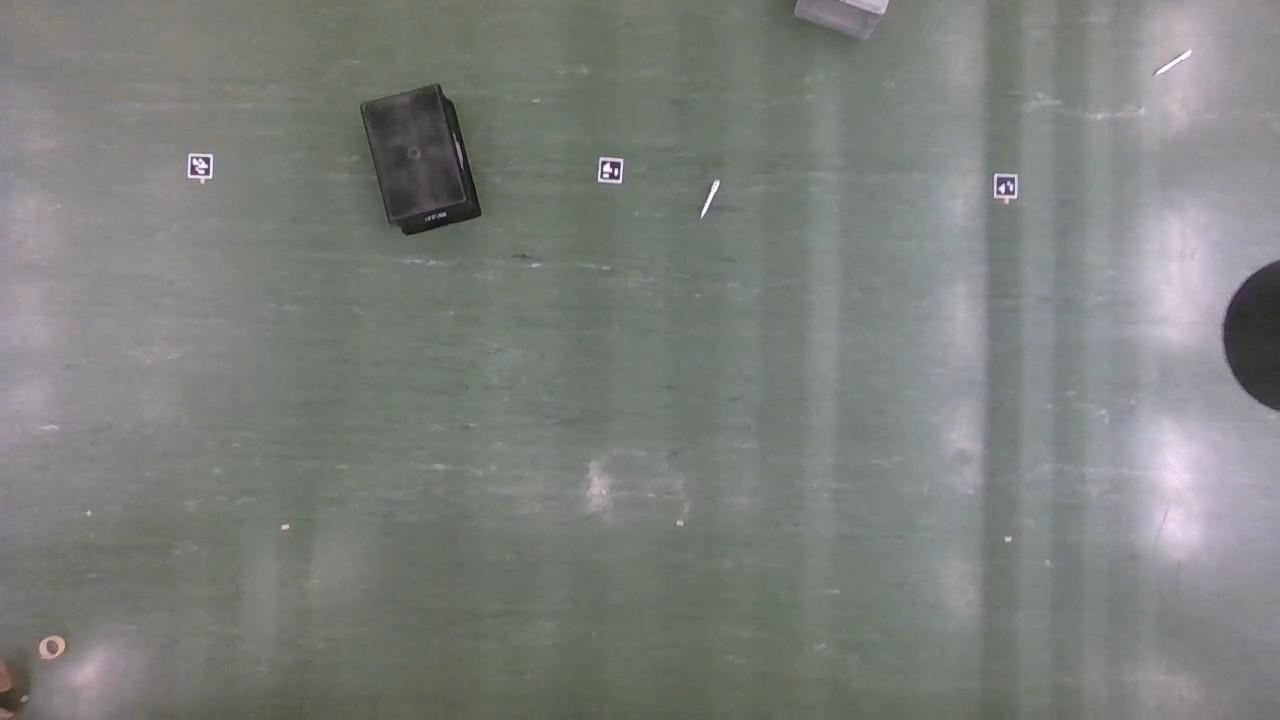probes: (1155, 50, 1189, 75), (702, 181, 720, 221)
rako: (362, 87, 482, 238)
